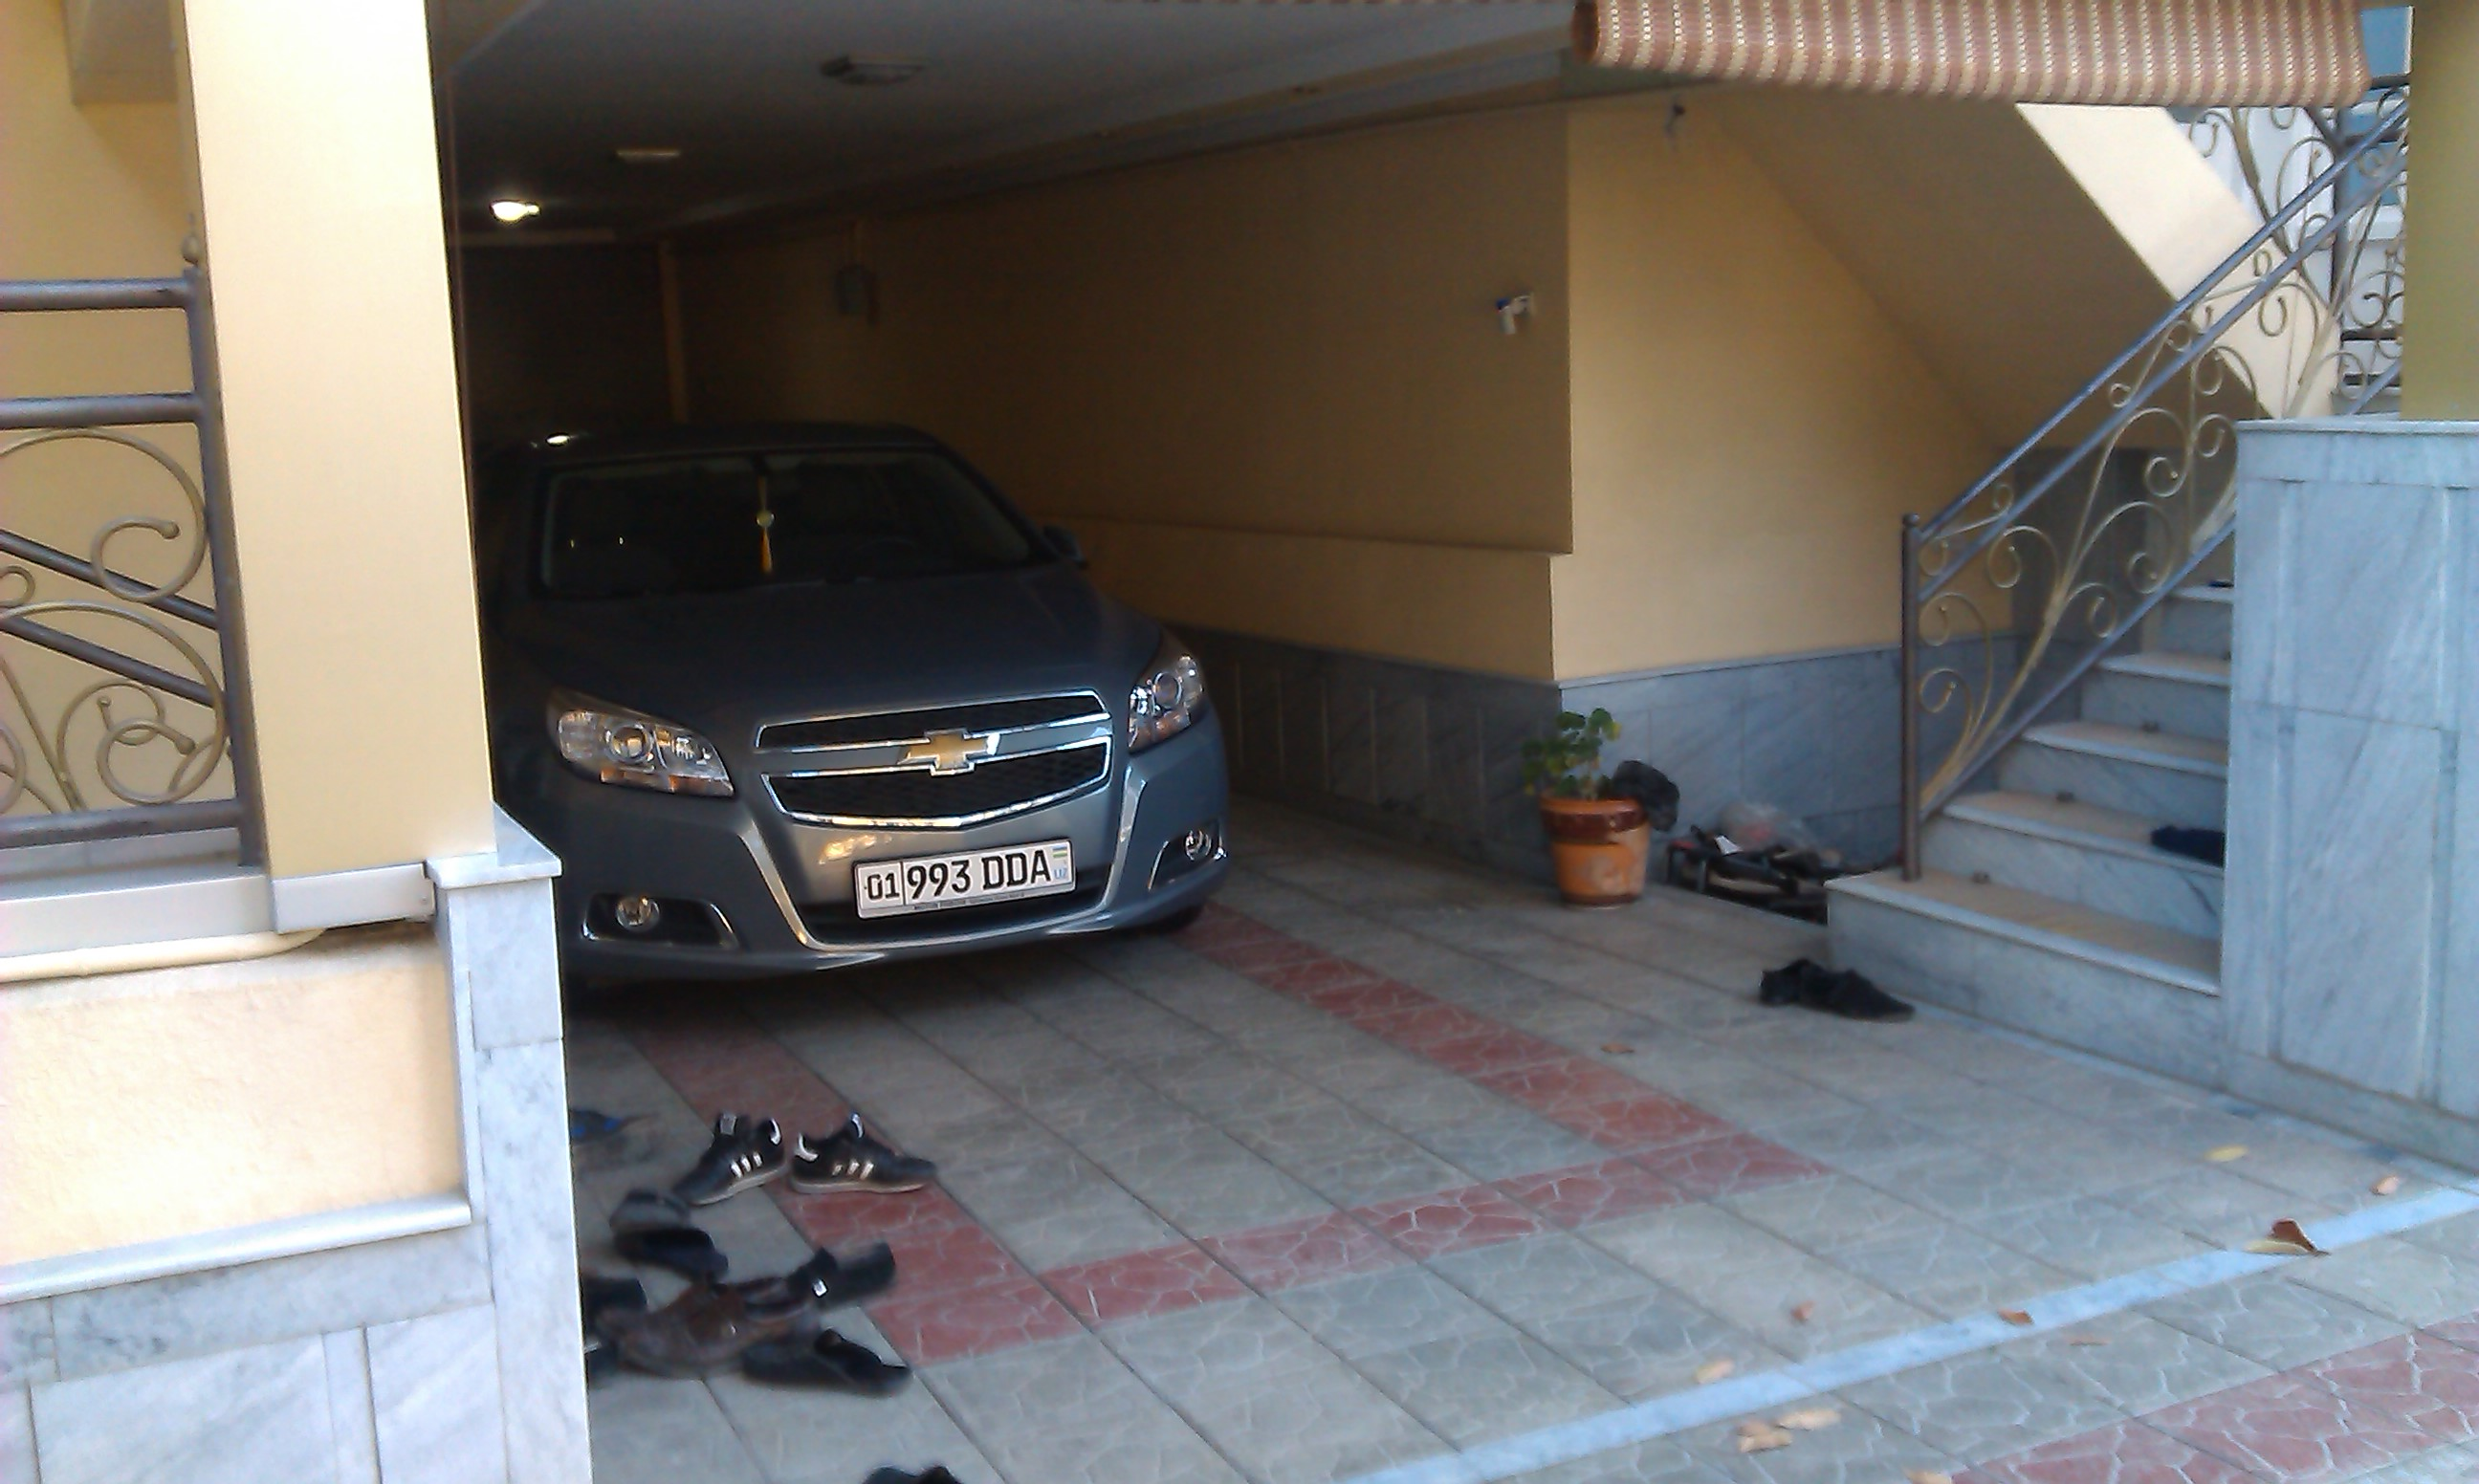car license plate: (845, 834, 1077, 937)
